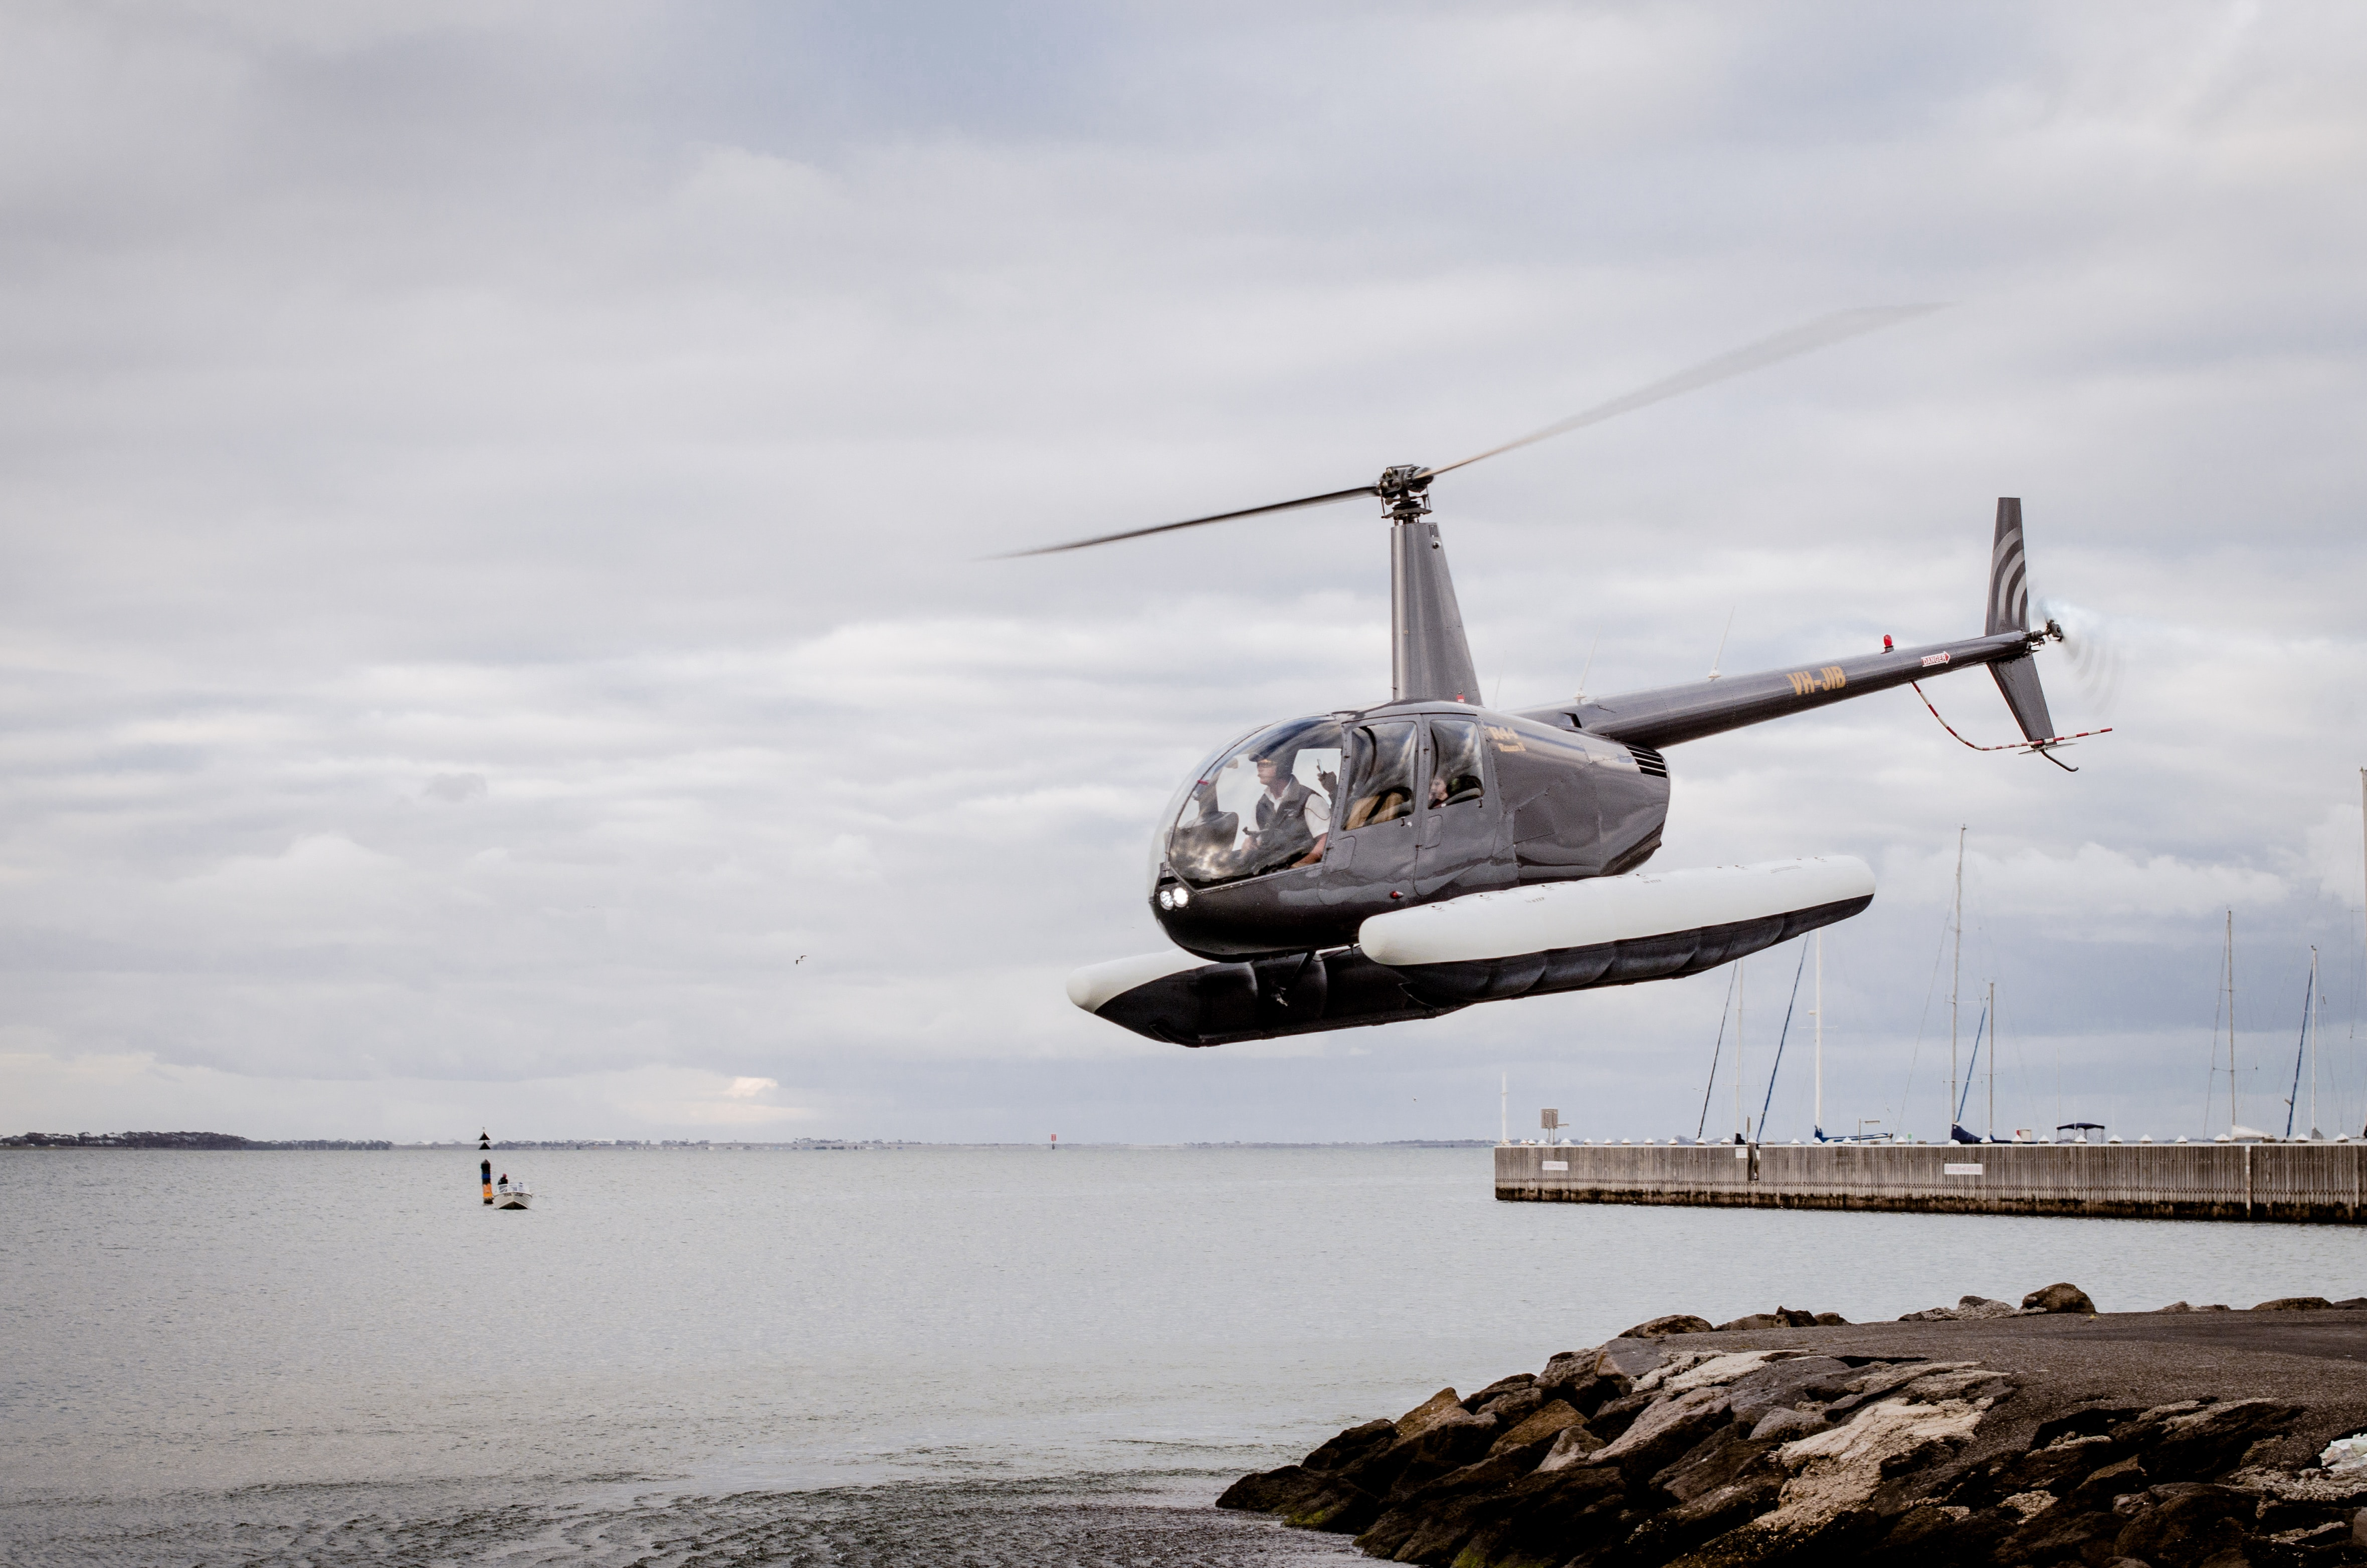helicopter: (943, 325, 2364, 1081)
